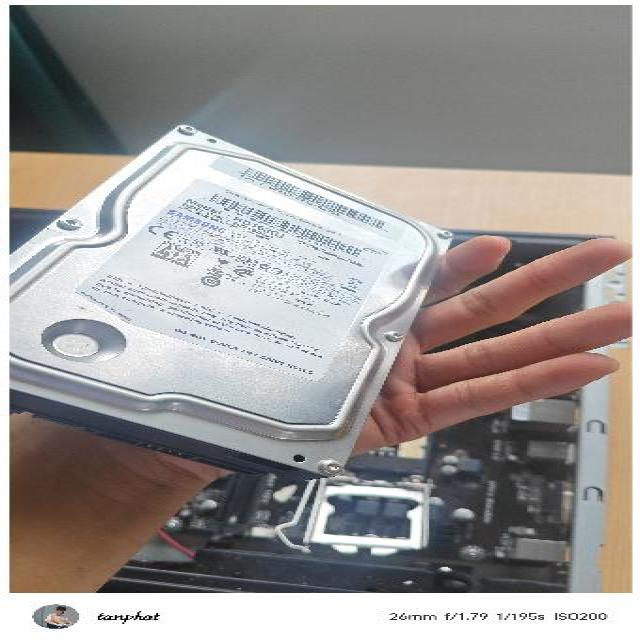DISK: (9, 122, 456, 484)
